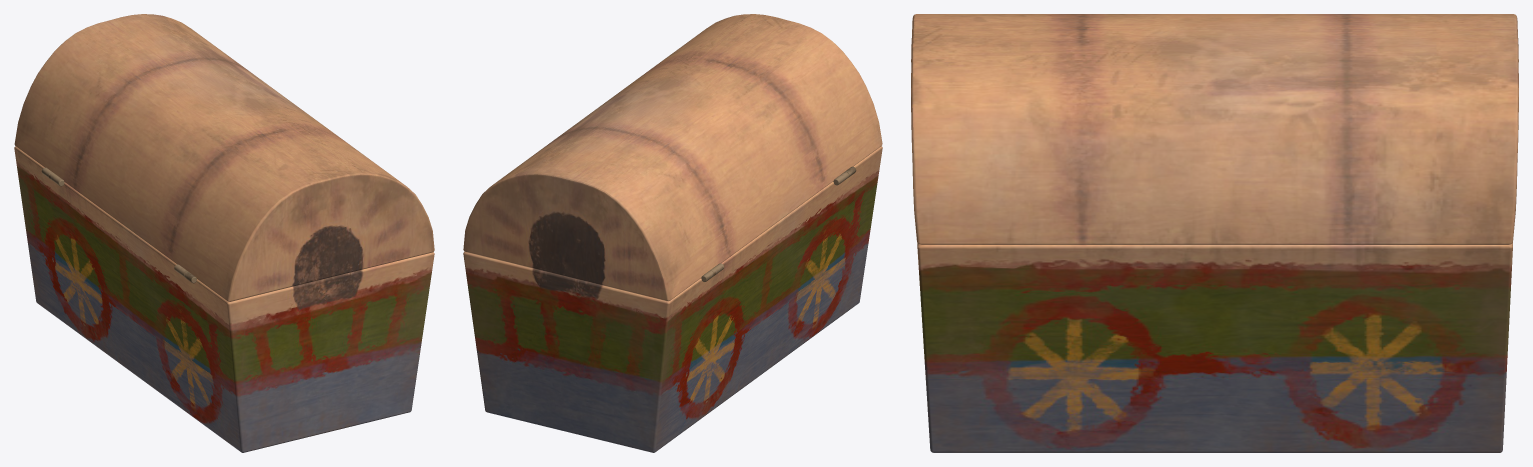
Rendered from baul.obj.
3 views of the same model, side by side, from view 1: azimuth 30°, elevation 25°; view 2: azimuth 150°, elevation 25°; view 3: azimuth 270°, elevation 25° (orthographic). The views are drawn at different scales.
Visible parts, largest first — view 1: cofre:Trunk_TopTrunk_baseTrunk_GRPROOM2; view 2: cofre:Trunk_TopTrunk_baseTrunk_GRPROOM2; view 3: cofre:Trunk_TopTrunk_baseTrunk_GRPROOM2.
Part boxes in pixels (x1,y1,x2,y2): cofre:Trunk_TopTrunk_baseTrunk_GRPROOM2: (14,14,434,452); cofre:Trunk_TopTrunk_baseTrunk_GRPROOM2: (463,14,882,452); cofre:Trunk_TopTrunk_baseTrunk_GRPROOM2: (911,14,1518,452).
Bounding box in the file's own units: 3.04 × 3.57 × 5.44.
Materials: 1 (1 with a texture image).
